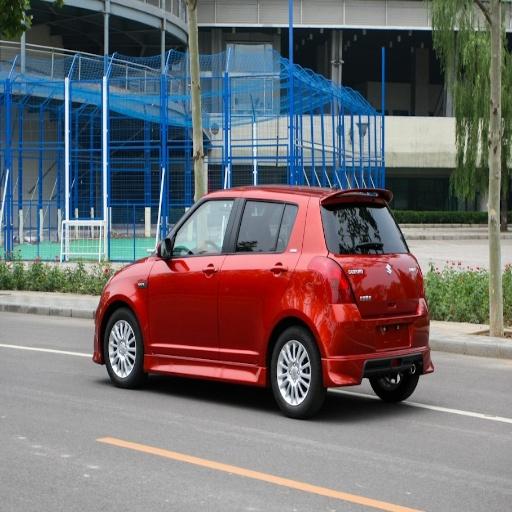back_bumper: (326, 317, 429, 383)
back_glass: (324, 205, 400, 252)
back_left_door: (219, 195, 300, 366)
trunk: (355, 255, 421, 339)
